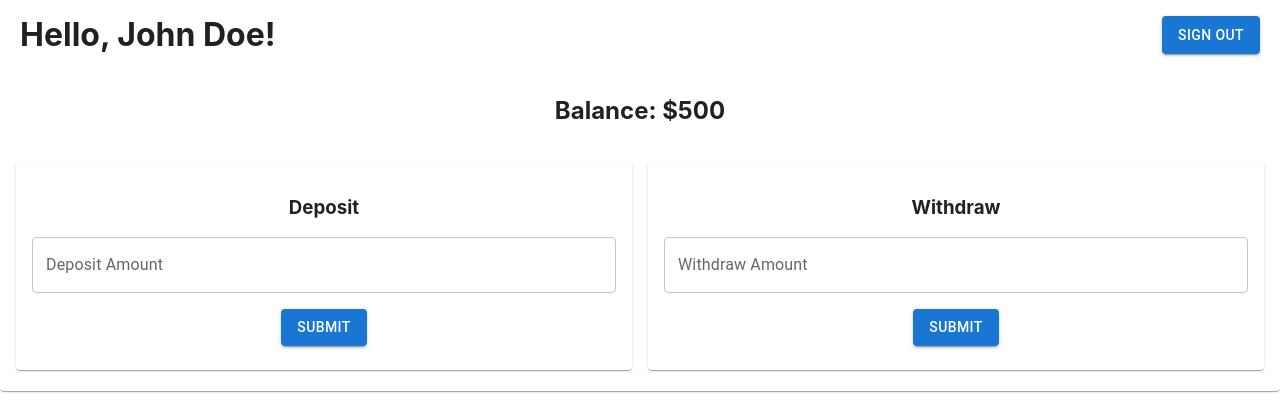
AccountDashboard Component › handles withdrawal submission and updates balance
Type "50" into the number field labelled "Withdraw Amount" at x=956, y=265, box 664,237 -> 1248,293
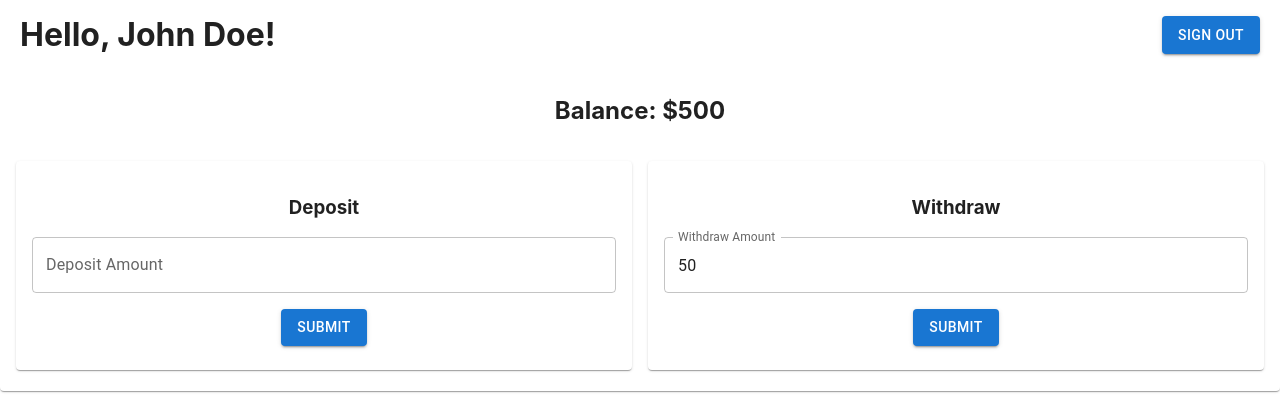
Click the button "Submit" below "Withdraw Amount" at x=956, y=327, box 913,309 -> 999,346
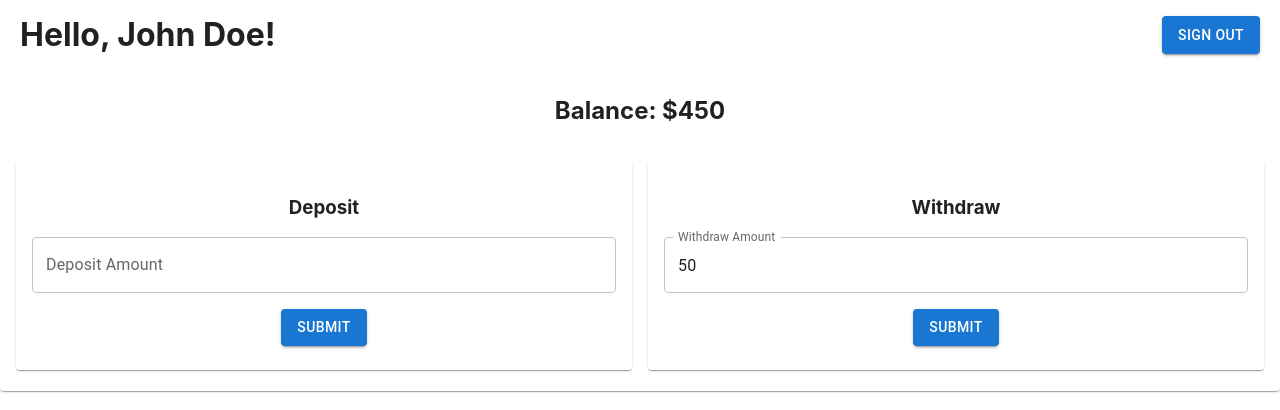
Check: the heading "Balance: $450" is shown, box 555,96 -> 725,125
